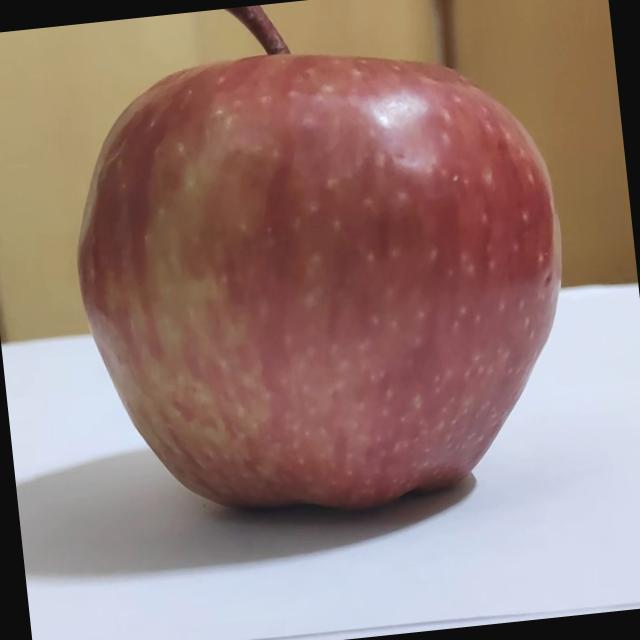apple: (43, 0, 585, 542)
